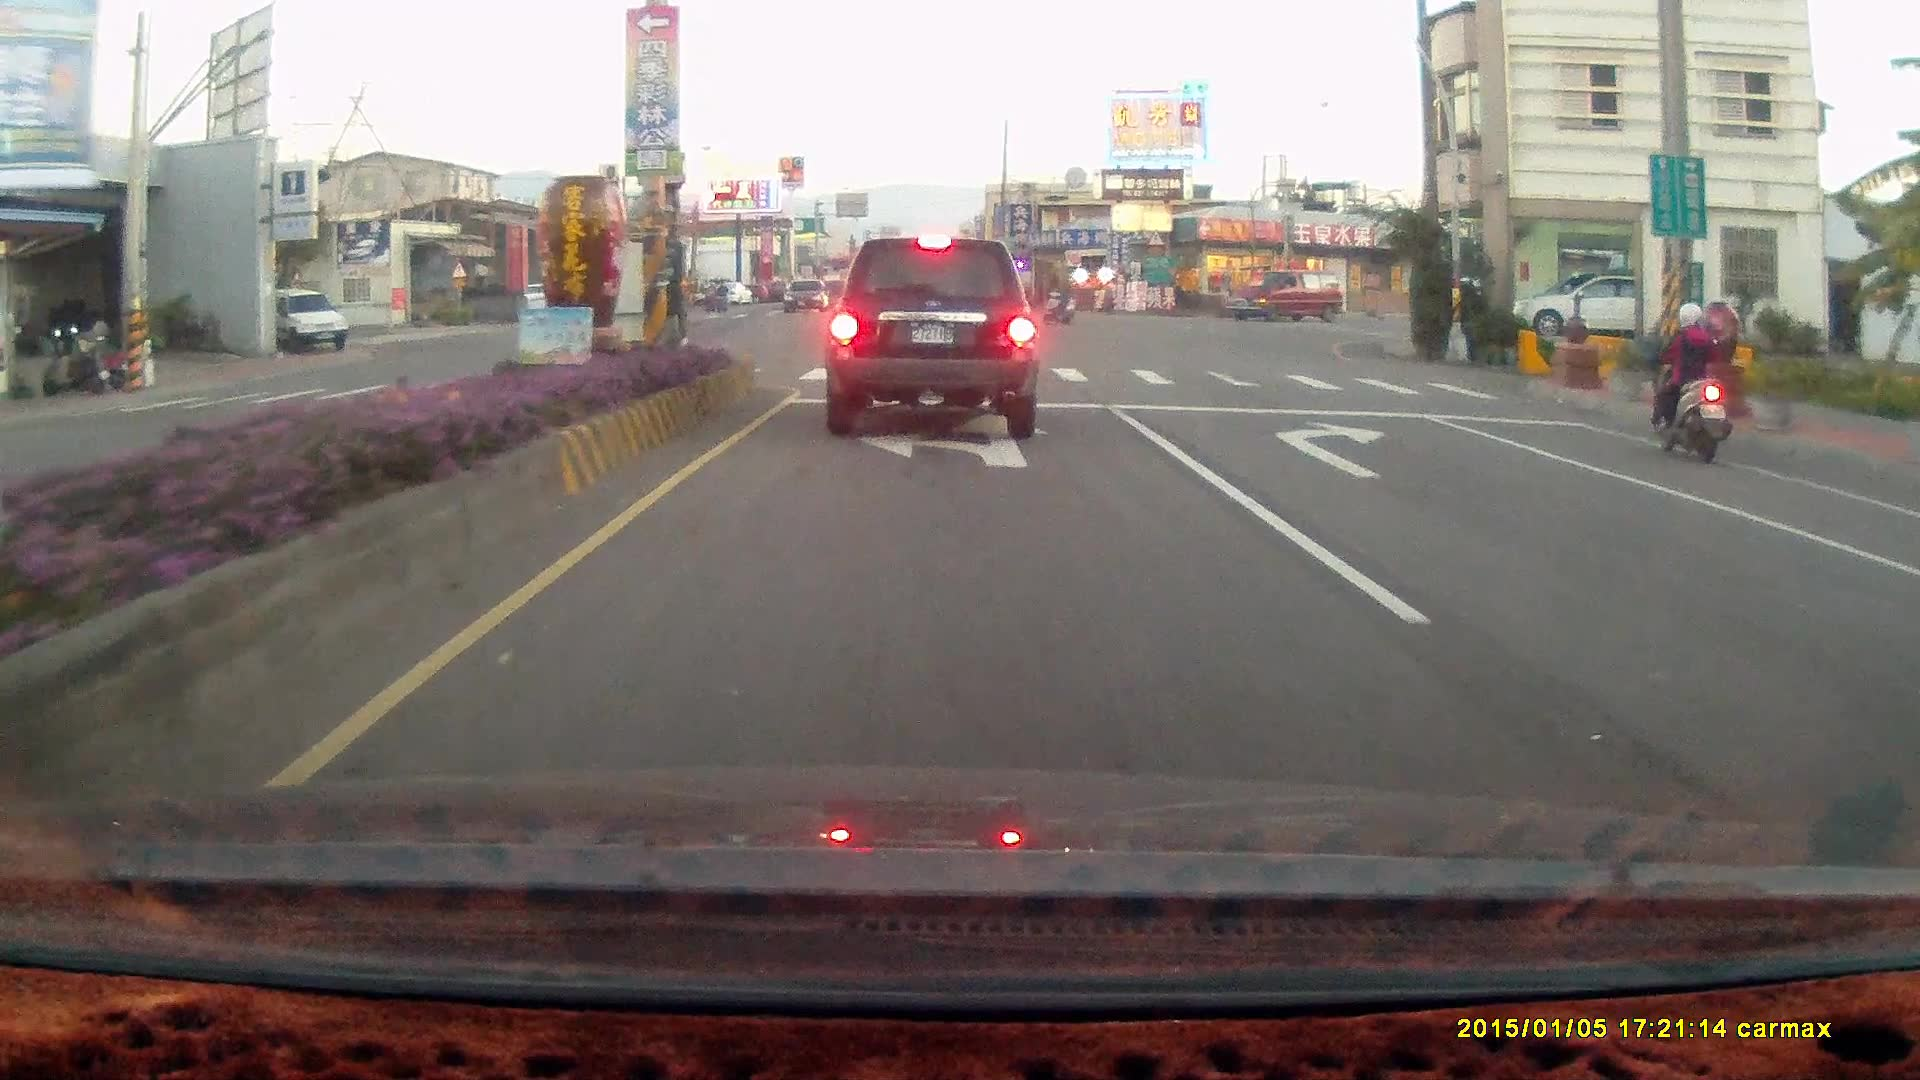rider: (1650, 298, 1730, 463), (1039, 272, 1077, 327)
vehicle: (822, 235, 1040, 439), (1509, 270, 1681, 340), (1896, 493, 1920, 836), (1528, 275, 1652, 338), (254, 286, 351, 353), (1229, 268, 1349, 320), (1224, 269, 1342, 321), (1883, 528, 1920, 690)
